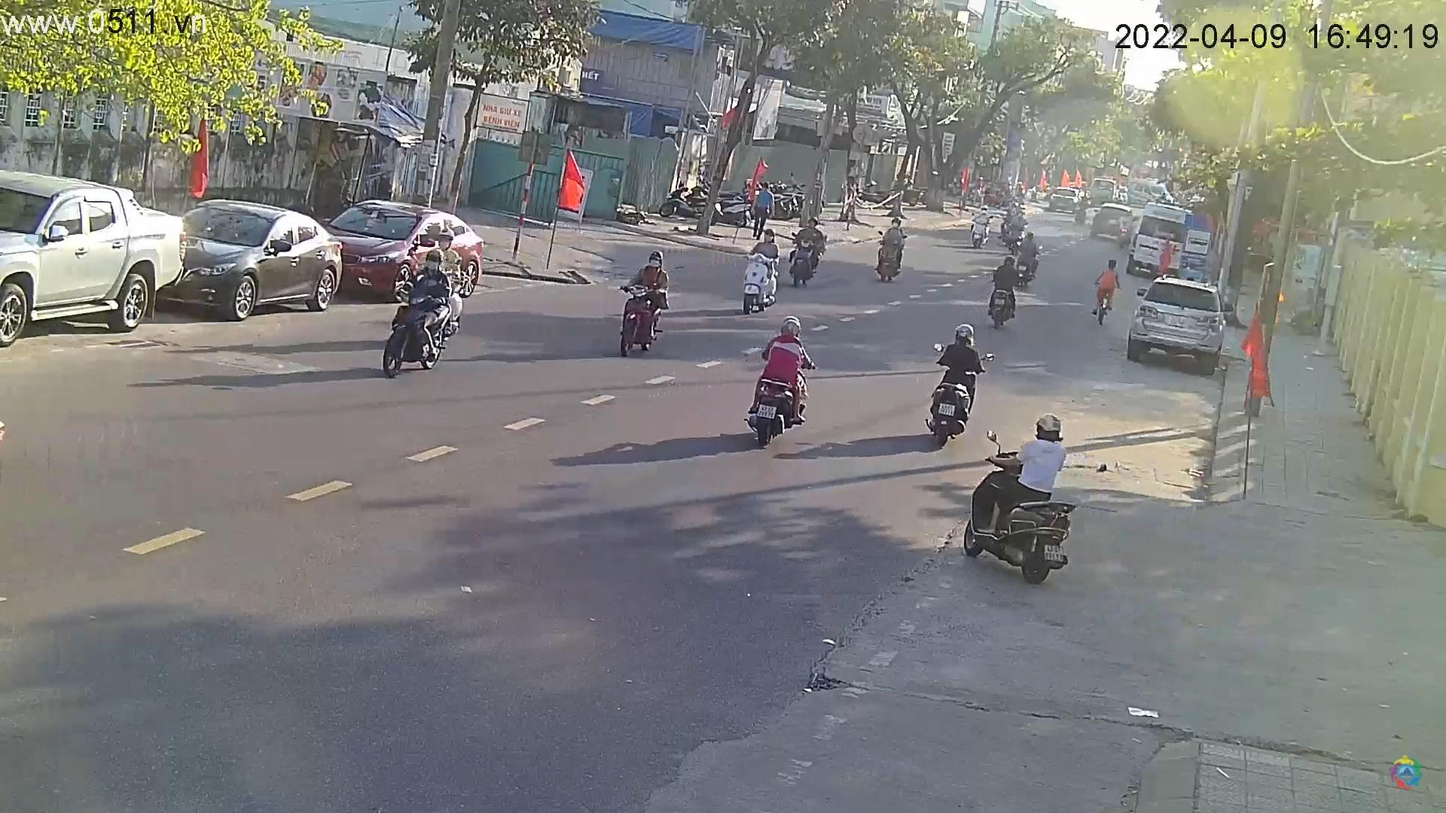car: (2, 169, 187, 351), (158, 201, 350, 323), (322, 199, 486, 301)
motorbike: (370, 281, 468, 378), (615, 269, 677, 359), (735, 241, 783, 315), (872, 230, 906, 285)
